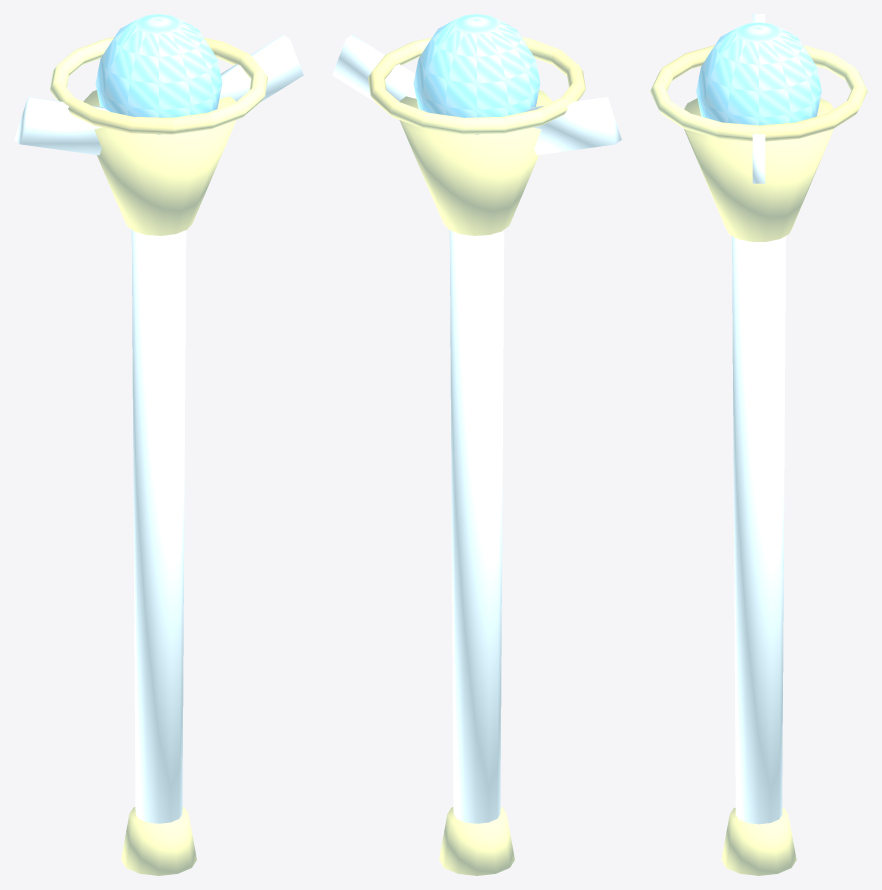
File: sacred-chalice-wand.glb
3 renders of one model, left to right at view 1: azimuth 30°, elevation 25°; view 2: azimuth 150°, elevation 25°; view 3: azimuth 270°, elevation 25°, orthographic.
Visible parts, largest first — view 1: TS_Prop_sacred-chalice-wand; view 2: TS_Prop_sacred-chalice-wand; view 3: TS_Prop_sacred-chalice-wand.
Boxes of the visible parts, left/top/right/bottom form: TS_Prop_sacred-chalice-wand: left=14, top=14, right=303, bottom=875; TS_Prop_sacred-chalice-wand: left=332, top=14, right=621, bottom=875; TS_Prop_sacred-chalice-wand: left=650, top=14, right=867, bottom=875.
Bounding box in the file's own units: 0.1548 × 0.4386 × 0.104.
Materials: 1 (1 with a texture image).
